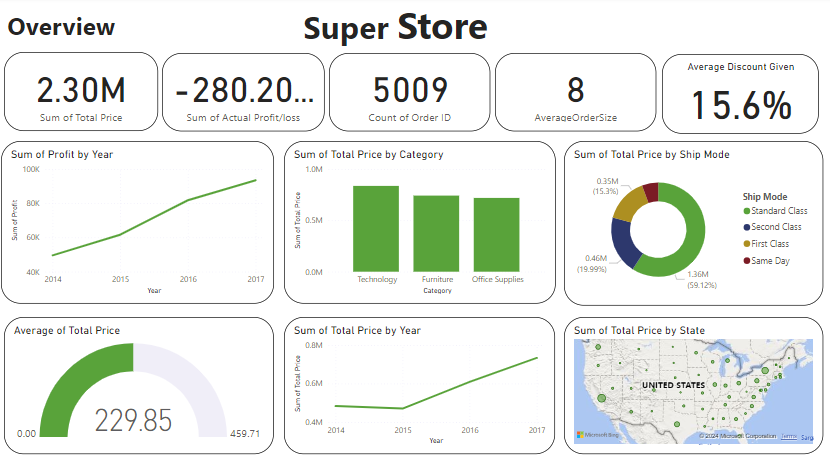

The page's visual inventory and layout, read from the dashboard file:
{"tool":"powerbi","page":{"name":"Overview Page","canvas":[1280,720],"ordinal":0},"visuals":[{"type":"card","fields":{"Values":["Sum(Sample - Superstore.After Discount)"]},"box":[11.5,84.5,236,121.3],"z":0},{"type":"card","fields":{"Values":["Sum(Sample - Superstore.Actutal Profit/loss)"]},"box":[252.4,86.1,249.1,119.6],"z":1000},{"type":"card","fields":{"Values":["Sample - Superstore.AverageOrderSize"]},"box":[762.1,86.1,247.5,119.6],"z":2000},{"type":"card","fields":{"Values":["Count(Sample - Superstore.Order ID)"]},"box":[508.1,86.1,247.5,119.6],"z":3000},{"type":"lineChart","fields":{"Category":["Sample - Superstore.Order Date.Variation.Date Hierarchy.Year","Sample - Superstore.Order Date.Variation.Date Hierarchy.Quarter","Sample - Superstore.Order Date.Variation.Date Hierarchy.Month","Sample - Superstore.Order Date.Variation.Date Hierarchy.Day"],"Y":["Sum(Sample - Superstore.After Discount)"]},"box":[440,490,415,210],"z":4000},{"type":"gauge","fields":{"Y":["Avg(Sample - Superstore.After Discount)"]},"box":[11.5,489.3,413,209.8],"z":5000},{"type":"textbox","box":[11.5,13.1,247.5,70.5],"z":6000},{"type":"lineChart","fields":{"Category":["Sample - Superstore.Order Date.Variation.Date Hierarchy.Year","Sample - Superstore.Order Date.Variation.Date Hierarchy.Quarter","Sample - Superstore.Order Date.Variation.Date Hierarchy.Month","Sample - Superstore.Order Date.Variation.Date Hierarchy.Day"],"Y":["Sum(Sample - Superstore.Profit)"]},"box":[6.6,220.5,417.9,249.1],"z":7000},{"type":"clusteredColumnChart","fields":{"Category":["Sample - Superstore.Category"],"Y":["Sum(Sample - Superstore.After Discount)"]},"box":[439.2,220.5,416.3,249.1],"z":8000},{"type":"donutChart","fields":{"Category":["Sample - Superstore.Ship Mode"],"Y":["Sum(Sample - Superstore.After Discount)"]},"box":[868.6,220.5,396.6,252.4],"z":9000},{"type":"map","fields":{"Category":["Sample - Superstore.State"],"Size":["Sum(Sample - Superstore.After Discount)"]},"box":[868.6,489.3,396.6,209.8],"z":10000},{"type":"textbox","box":[463.8,0,337.6,83.6],"z":11000},{"type":"card","title":"Average Discount Given","fields":{"Values":["Avg(Sample - Superstore.Discount)"]},"box":[1018.3,86.7,240,121.7],"z":12000}]}

Visuals, with their boxes in screenshot pixels (x1, y1, x2, y2), scaled from the page's 1280x720 canvas onto the 830x463 screenshot:
card - Sum(Sample - Superstore.After Discount): 7 54 160 132
card - Sum(Sample - Superstore.Actutal Profit/loss): 164 55 325 132
card - Sample - Superstore.AverageOrderSize: 494 55 655 132
card - Count(Sample - Superstore.Order ID): 329 55 490 132
lineChart - Sample - Superstore.Order Date.Variation.Date Hierarchy.Year x Sample - Superstore.Order Date.Variation.Date Hierarchy.Quarter: 285 315 554 450
gauge - Avg(Sample - Superstore.After Discount): 7 315 275 450
textbox: 7 8 168 54
lineChart - Sample - Superstore.Order Date.Variation.Date Hierarchy.Year x Sample - Superstore.Order Date.Variation.Date Hierarchy.Quarter: 4 142 275 302
clusteredColumnChart - Sample - Superstore.Category x Sum(Sample - Superstore.After Discount): 285 142 555 302
donutChart - Sample - Superstore.Ship Mode x Sum(Sample - Superstore.After Discount): 563 142 820 304
map - Sample - Superstore.State x Sum(Sample - Superstore.After Discount): 563 315 820 450
textbox: 301 0 520 54
"Average Discount Given" card: 660 56 816 134
